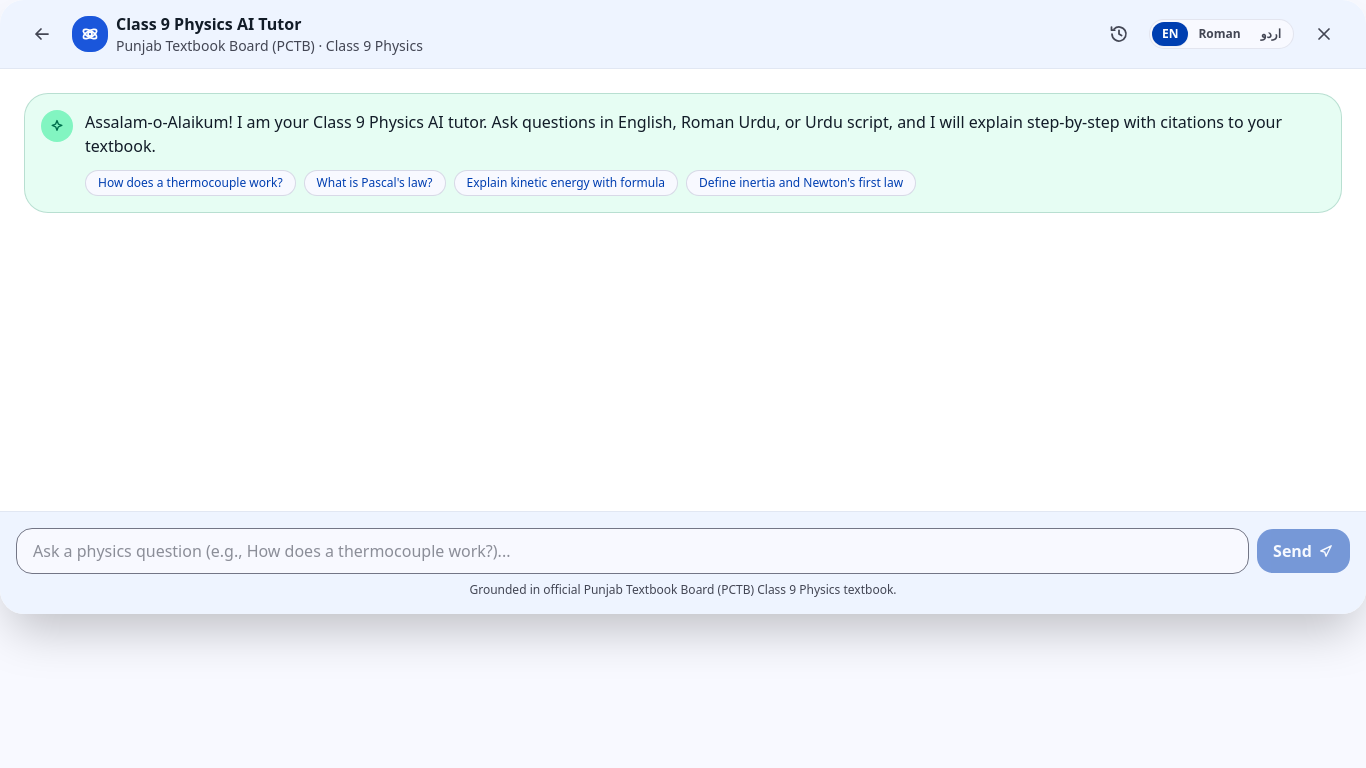
Test: PhysicsChatView › opens page scan preview dialog when citation is clicked
Replace the text in the field with placeholder "Ask a physics question (e.g., How does a thermocouple work?)..." with "Show thermocouple diagram". click: (633, 551)
box: [16,528,1249,574]
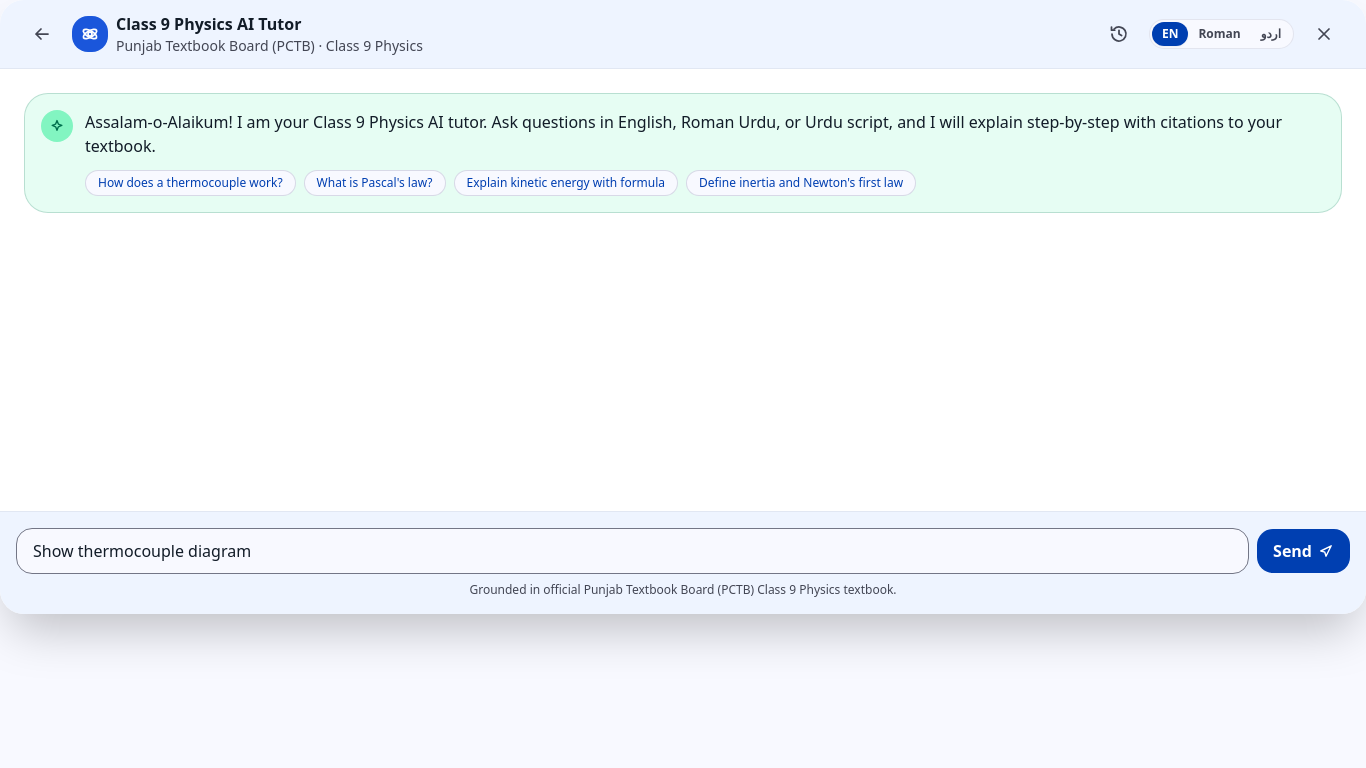
Click the button labelled "Send". click: click(1304, 551)
box: [1257,529,1350,573]
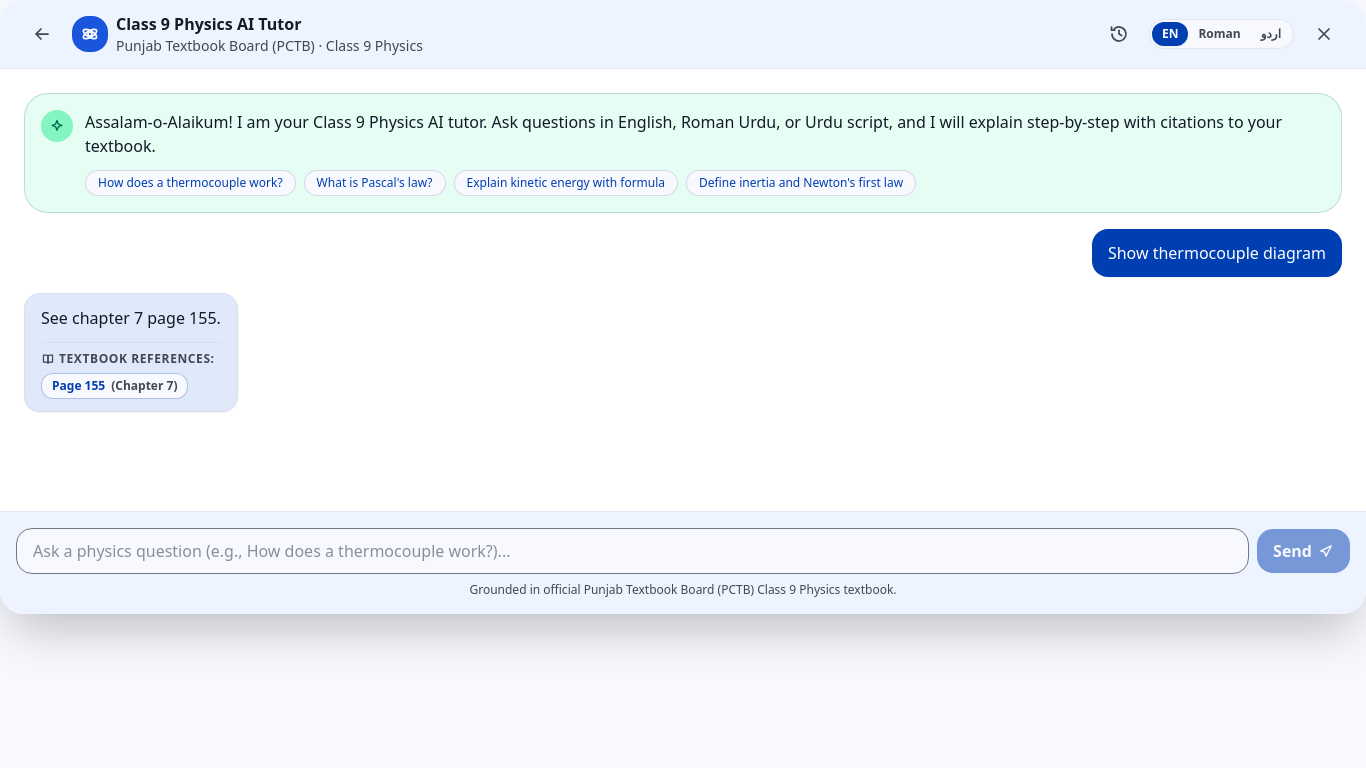
Expected: the text "Page 155" is shown, [52,378,105,394]
# Click the citation button
Click the button "Page 155 (Chapter 7)". click: click(115, 386)
box: [41,373,188,399]
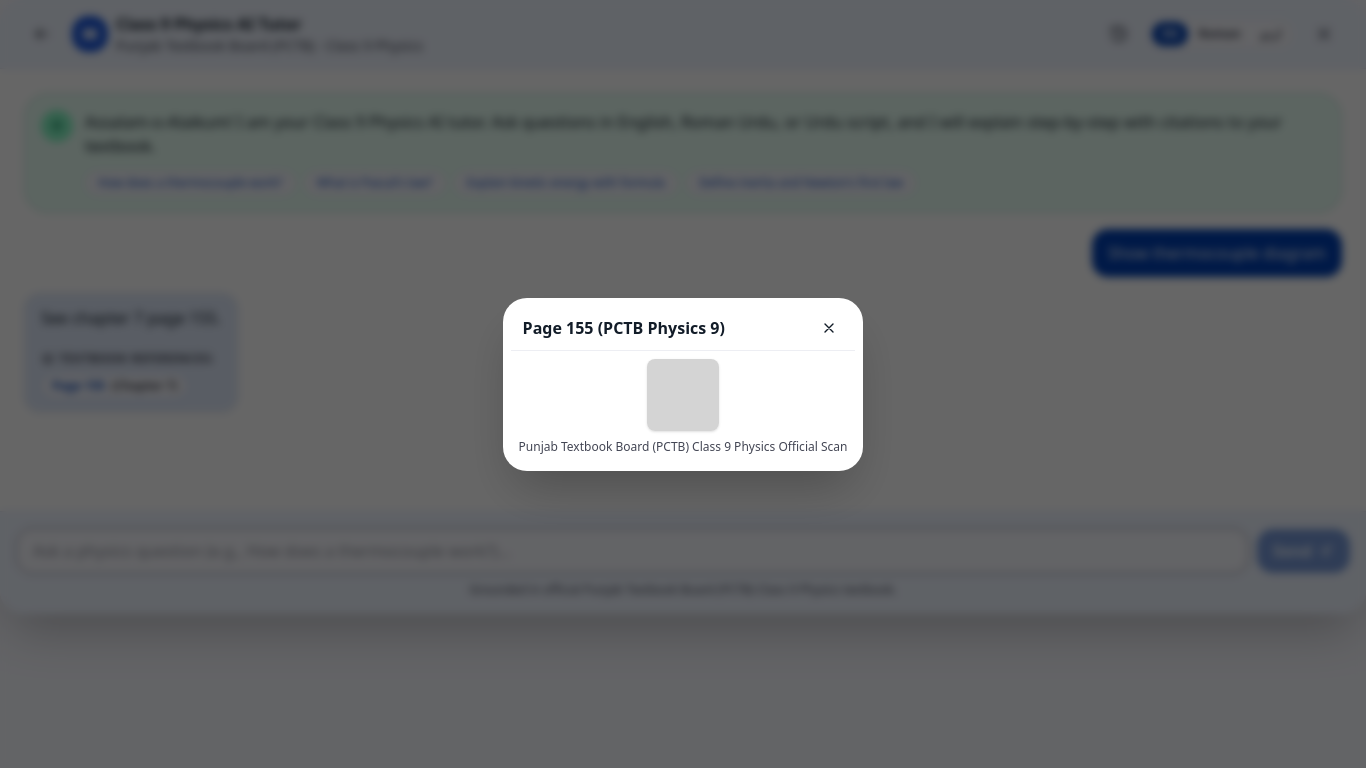
Expected: the heading "Page 155 (PCTB Physics 9)" is shown, [523,316,725,340]
# Close preview
Click the button named "Close". click: click(829, 328)
box: [815,314,843,342]
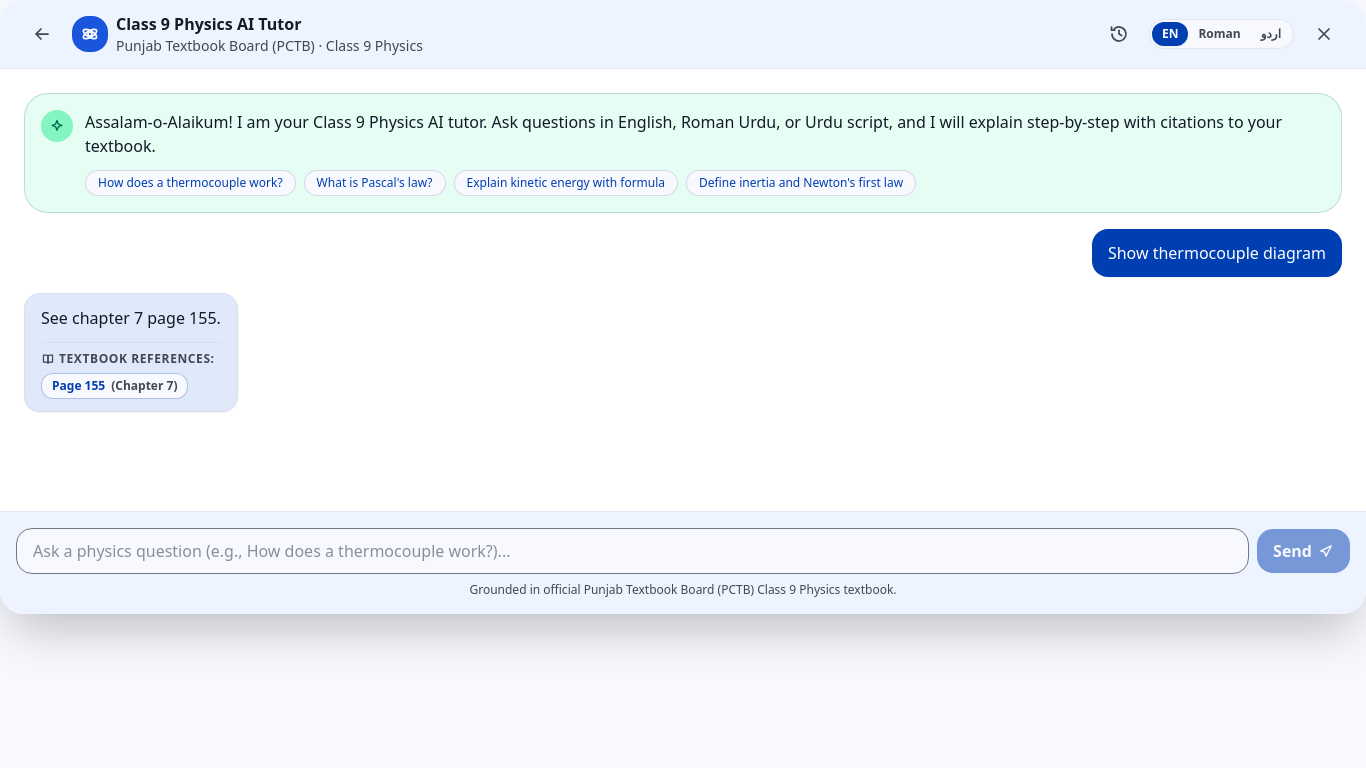
Expected: the heading "Page 155 (PCTB Physics 9)" is gone
